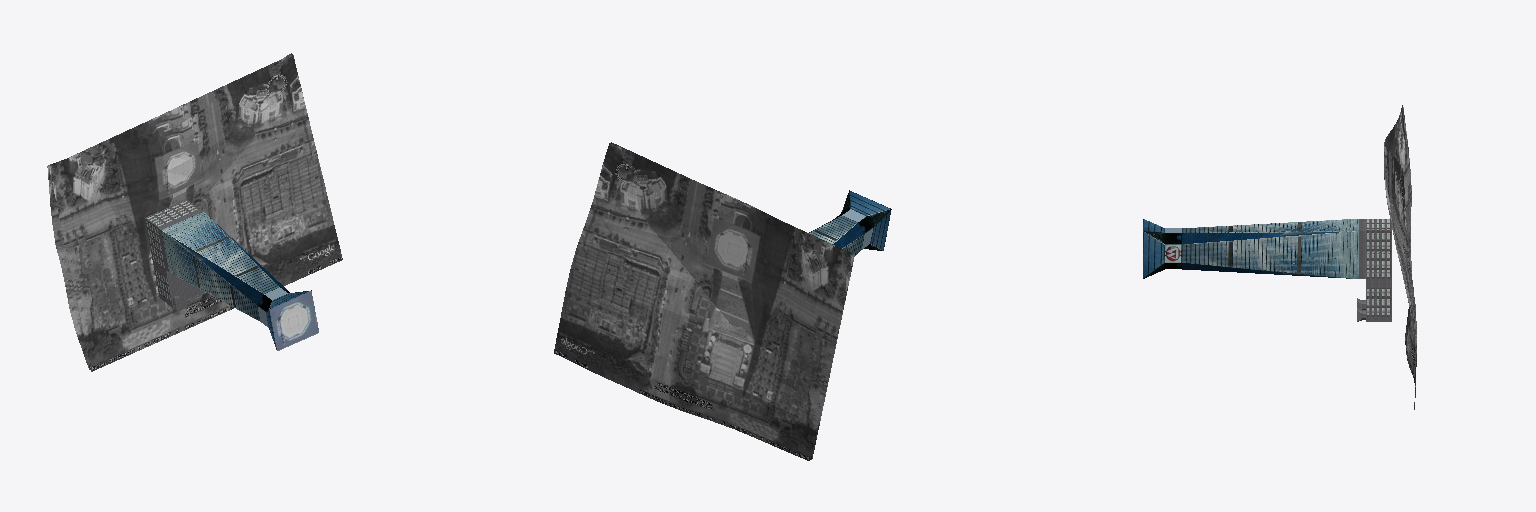
3 views of the same model, side by side, from view 1: azimuth 30°, elevation 25°; view 2: azimuth 150°, elevation 25°; view 3: azimuth 270°, elevation 25° (orthographic).
Parts seen in each view (by area): view 1: Google Earth Snapshot, Google Earth Terrain, Group; view 2: Google Earth Terrain, Google Earth Snapshot, Group; view 3: Group, Google Earth Terrain.
Part boxes in pixels (bbox=[...]): Google Earth Snapshot: bbox=[49, 54, 342, 371]; Google Earth Terrain: bbox=[47, 53, 291, 369]; Group: bbox=[145, 200, 318, 350]; Google Earth Terrain: bbox=[554, 143, 852, 460]; Google Earth Snapshot: bbox=[611, 142, 854, 459]; Group: bbox=[809, 190, 891, 255]; Group: bbox=[1143, 219, 1391, 321]; Google Earth Terrain: bbox=[1384, 105, 1416, 409].
Size of the model in its own units: 12090 by 10558 by 9741.
Materials: 30 (26 with a texture image).